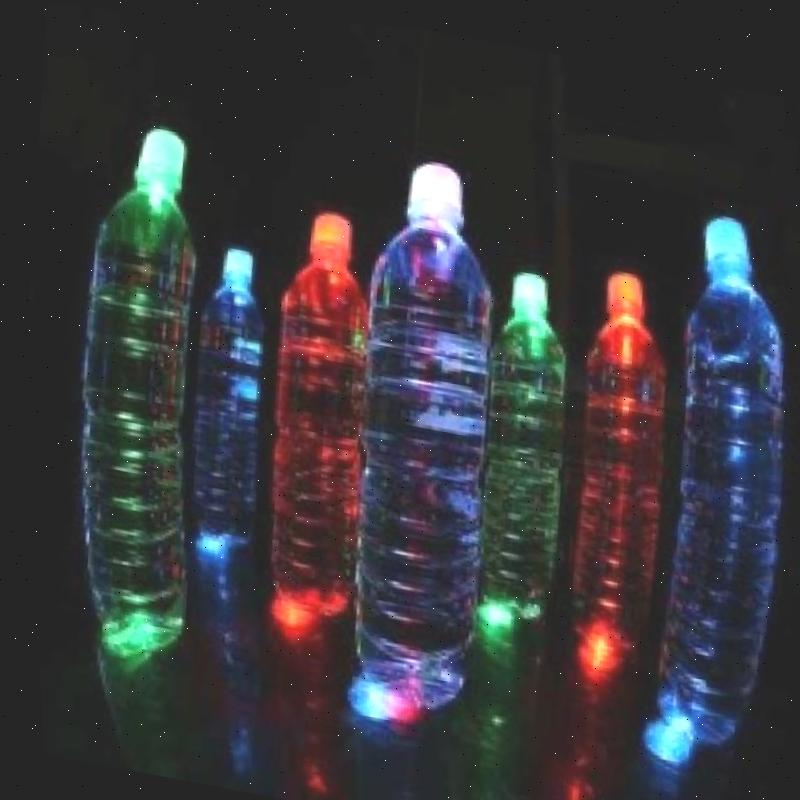botella: (336, 141, 519, 476), (58, 112, 210, 441), (654, 197, 800, 526), (250, 198, 382, 439), (561, 255, 683, 486), (471, 255, 578, 473), (175, 234, 281, 432)
